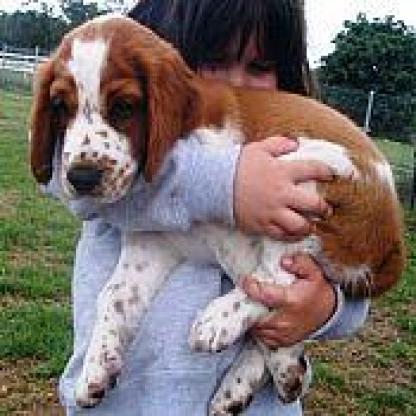Welsh_springer_spaniel: (24, 13, 402, 408)
